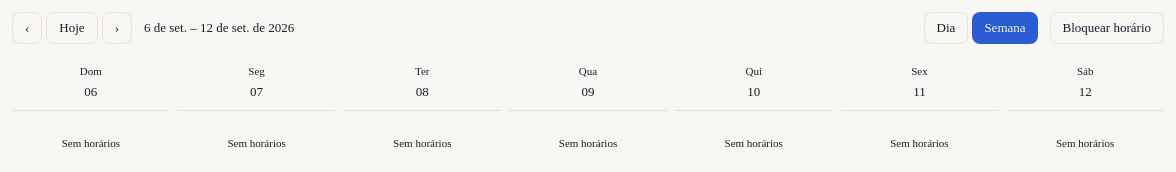
AppointmentAgenda (integration) › switches to day view when clicking day button
Click the button with test id "toolbar-view-day".
click(946, 28)  # box [924, 12, 968, 44]
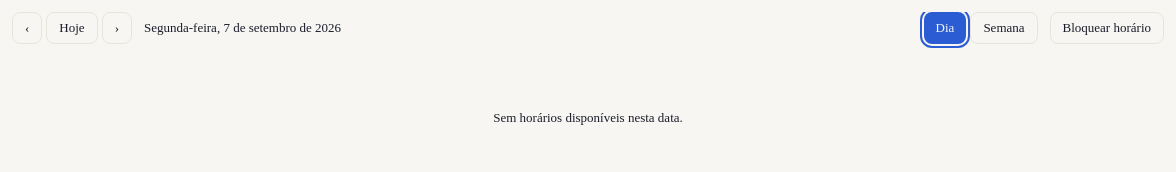
expect the element with test id "agenda-week-grid" is gone: met
